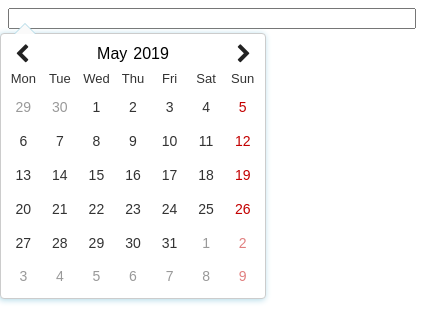
Test: AngularMyDatePickerComponent › options - yearSelector
What coordinates should you click on to do the following:
click the button with class "myDpYearBtn"
I would click on:
 (151, 53)
Its box is x1=133 y1=39 x2=169 y2=67.
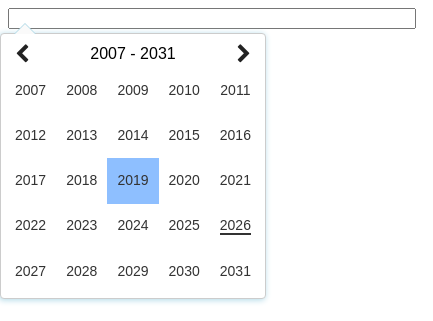
Result: the table with class "myDpYearTable" is shown at x1=5 y1=68 x2=261 y2=294
Result: the number of cells with class "myDpYearcell" is 25
Result: the cell with class "myDpYearcell" reads "2007" at x1=15 y1=82 x2=46 y2=98
What coordinates should you click on to do the following:
click the cell with class "myDpYearcell" showing "2019"
I would click on:
 (133, 181)
Its box is x1=107 y1=158 x2=159 y2=204.
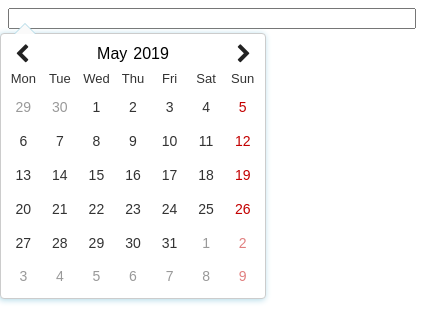
Result: the table with class "myDpYearTable" is gone
